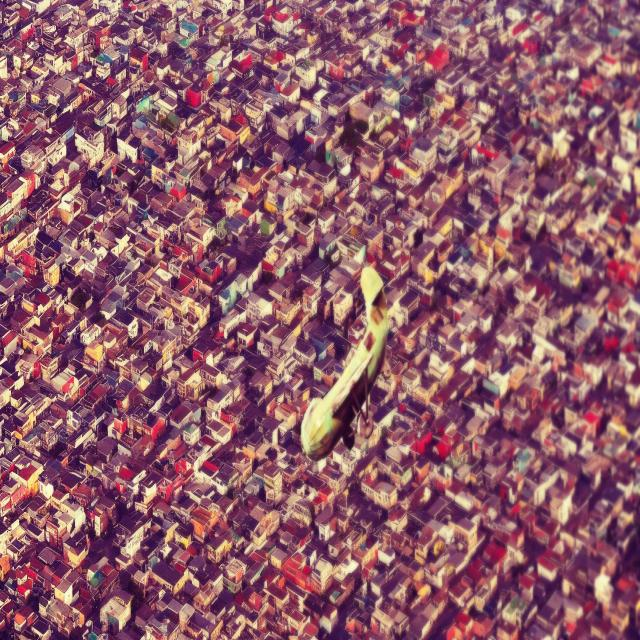airplane: (300, 264, 389, 462)
